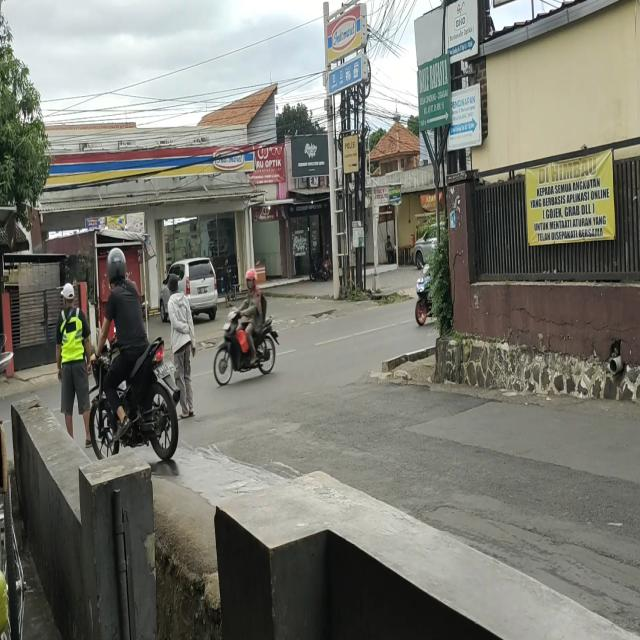helmet: (106, 248, 126, 287), (245, 268, 257, 294)
